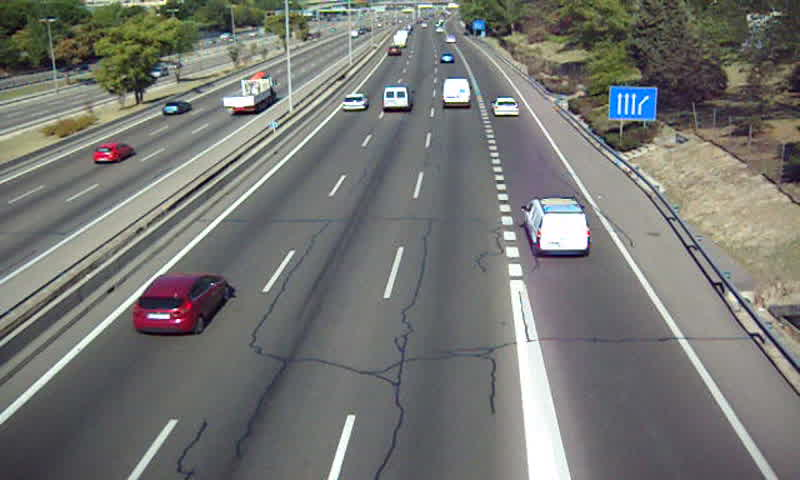car: (132, 272, 228, 335), (341, 92, 371, 113), (490, 96, 519, 116)
van: (526, 197, 590, 256), (443, 78, 472, 109), (384, 86, 414, 111)
